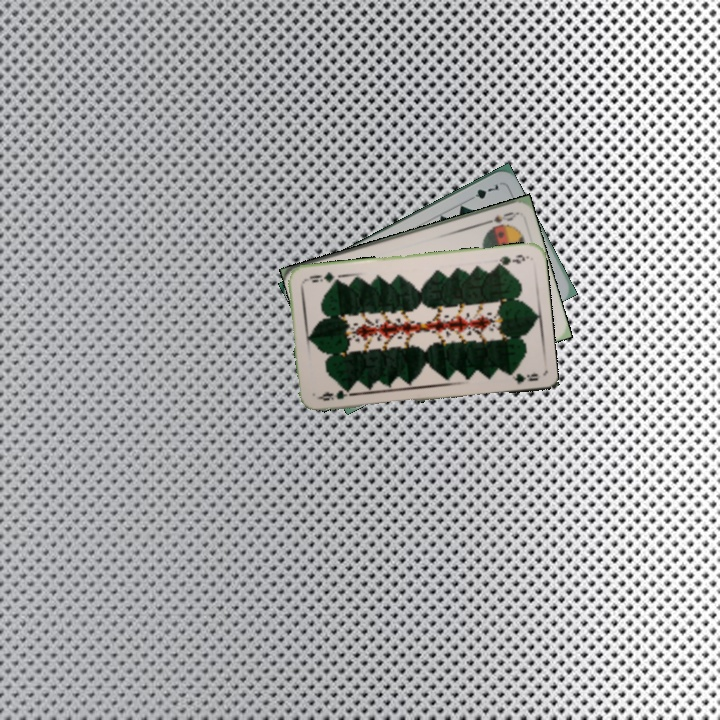G7: (464, 179, 501, 204)
G9: (314, 384, 354, 403), (492, 250, 530, 268)
SO: (478, 208, 519, 227)
